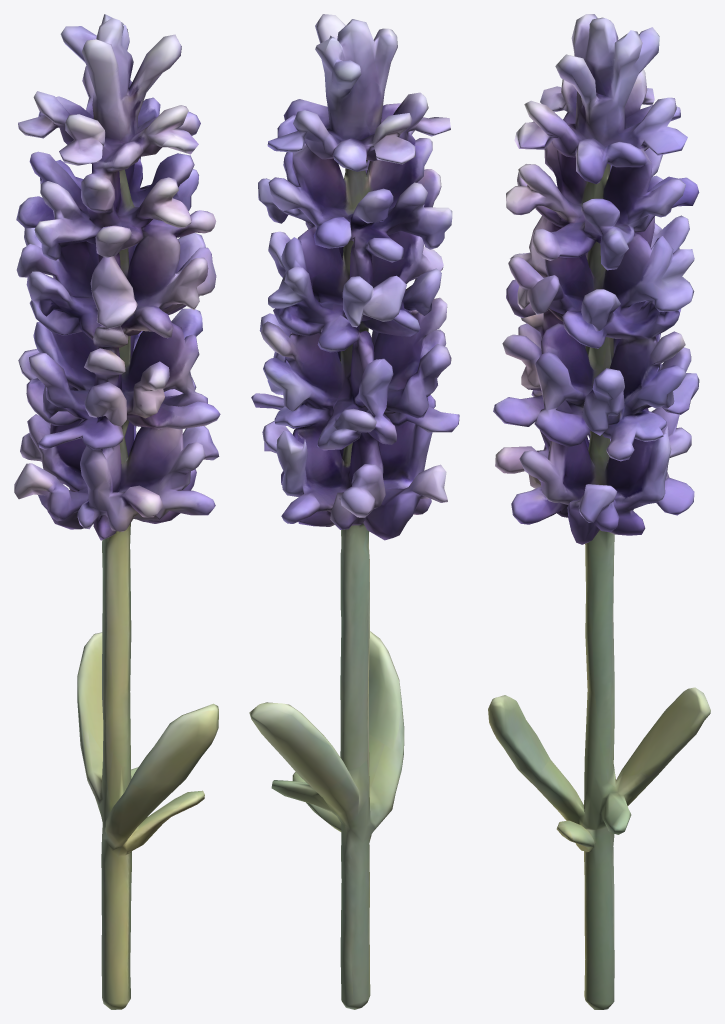
The model's file is lavender-bloom.glb.
3 views of the same model, side by side, from view 1: azimuth 30°, elevation 25°; view 2: azimuth 150°, elevation 25°; view 3: azimuth 270°, elevation 25° (orthographic).
Visible parts, largest first — view 1: tripo_node_01a22164-1268-75f6-9969-07903a54b43e; view 2: tripo_node_01a22164-1268-75f6-9969-07903a54b43e; view 3: tripo_node_01a22164-1268-75f6-9969-07903a54b43e.
Boxes of the visible parts, <box> form: tripo_node_01a22164-1268-75f6-9969-07903a54b43e: <box>14,14,220,1009</box>; tripo_node_01a22164-1268-75f6-9969-07903a54b43e: <box>249,14,459,1009</box>; tripo_node_01a22164-1268-75f6-9969-07903a54b43e: <box>488,14,710,1009</box>.
Size of the model in its own units: 0.205 by 1 by 0.2044.
Materials: 1 (1 with a texture image).
